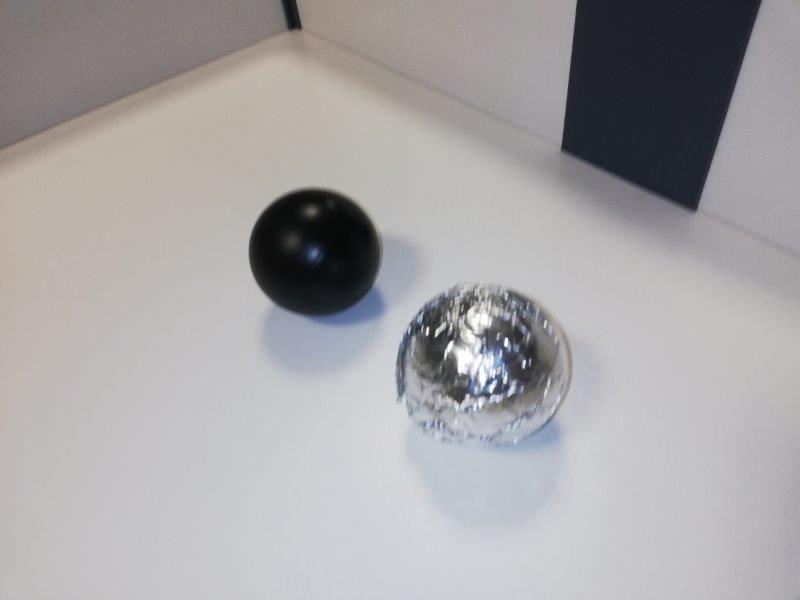bianca: (395, 282, 572, 450)
nera: (246, 188, 383, 318)
